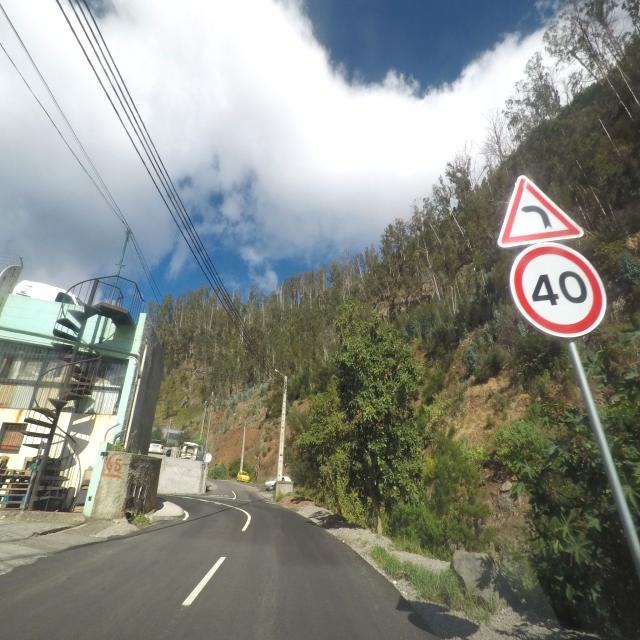car: (264, 474, 293, 492)
